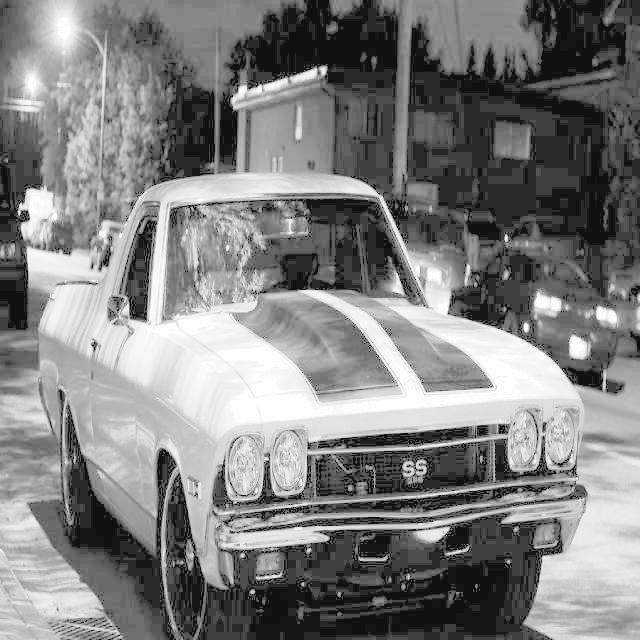Car: (65, 174, 590, 640), (461, 184, 640, 422), (0, 173, 66, 390), (387, 164, 452, 323), (75, 203, 128, 275), (29, 179, 64, 248)
